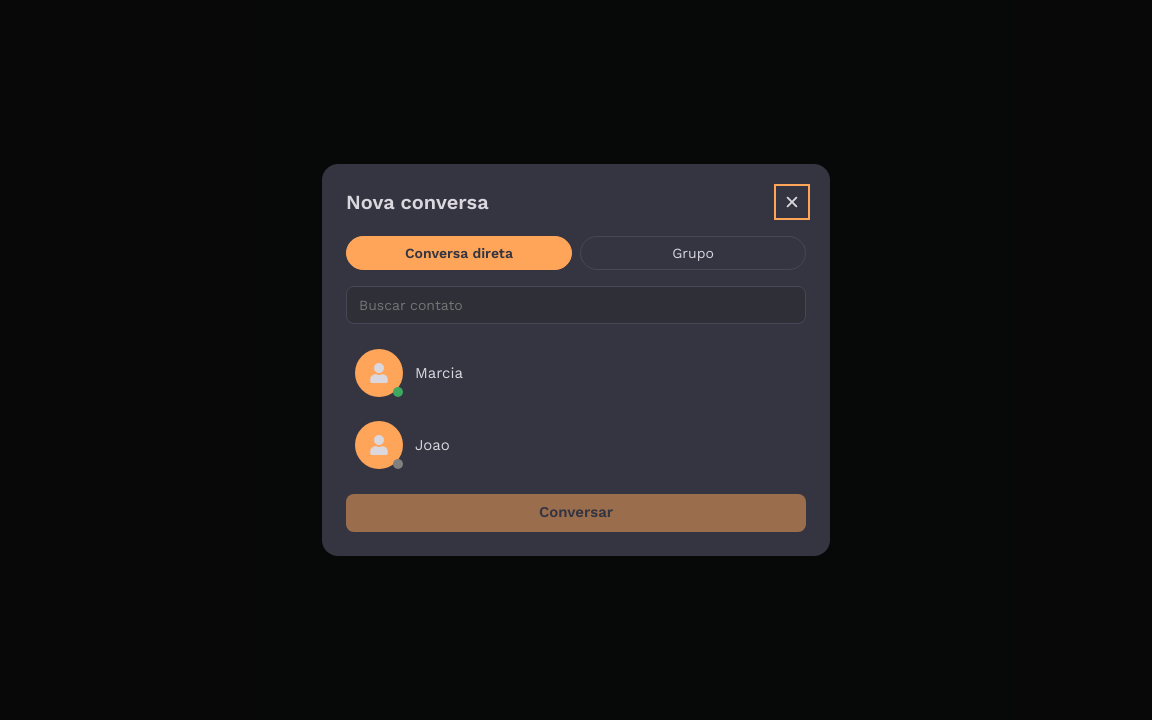
it: NewChatModal · criar grupo › voltar preserva quem ja foi escolhido
Click the tab "Grupo" at (693, 253), box left=580, top=236, right=806, bottom=270
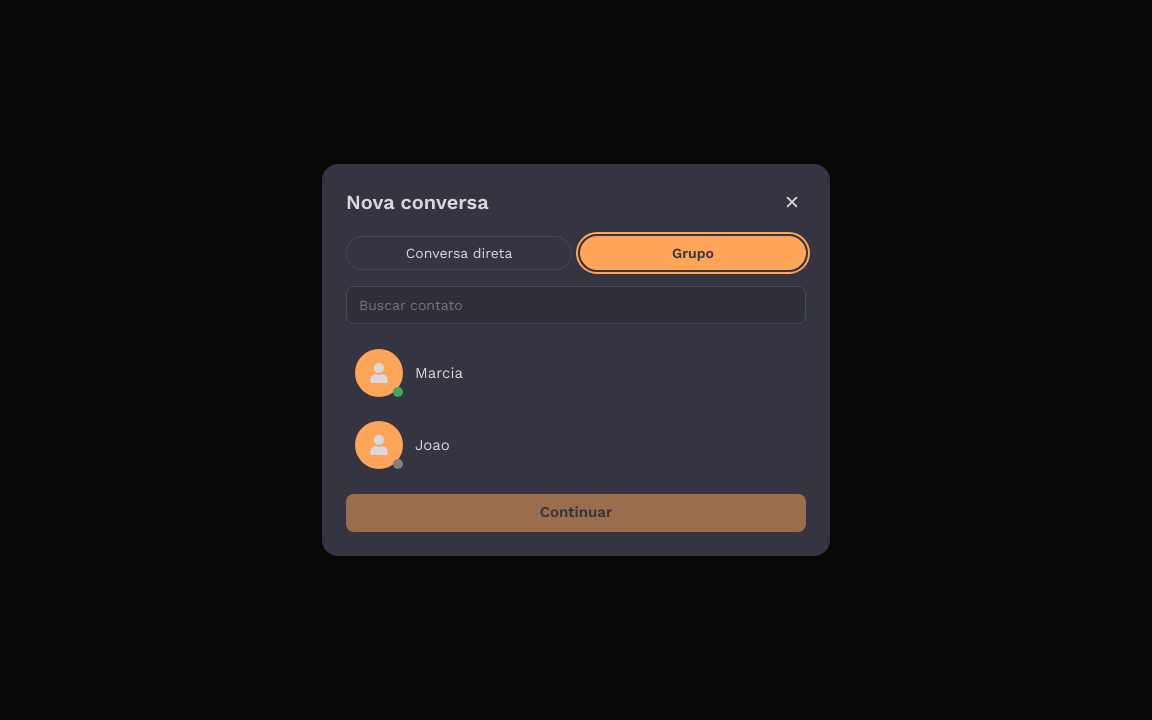
Click the button "Marcia" at (379, 373), box left=346, top=340, right=806, bottom=406
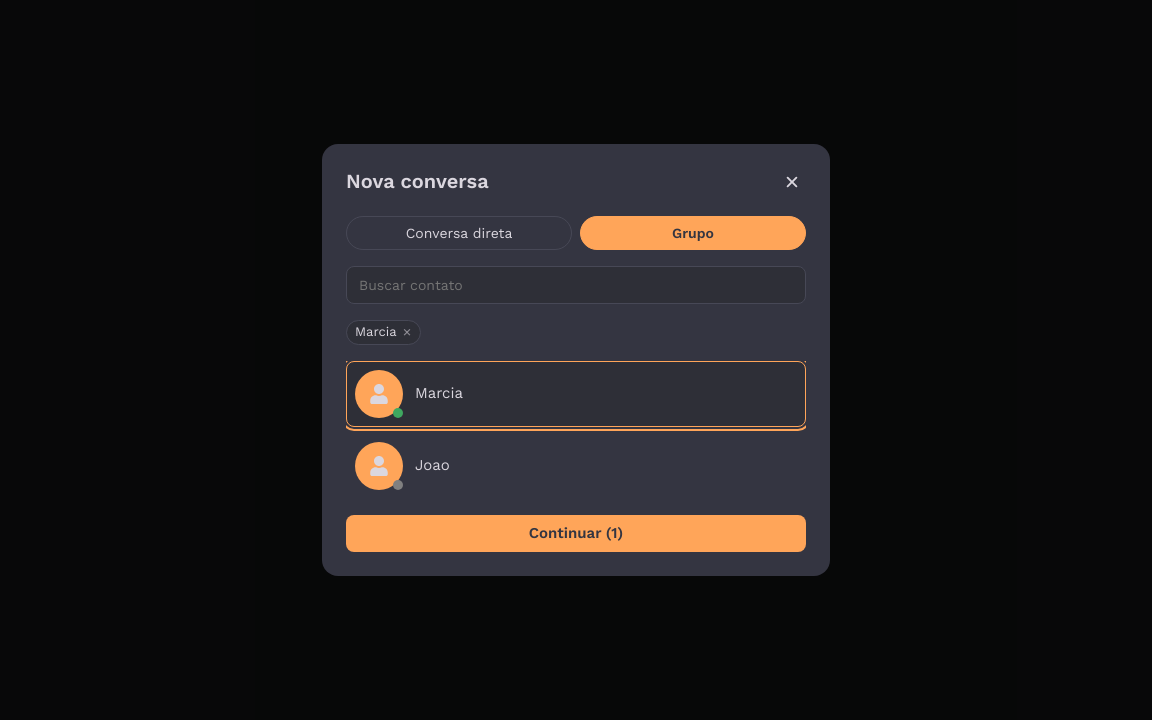
Click the button "Continuar (1)" at (576, 534), box left=346, top=515, right=806, bottom=552
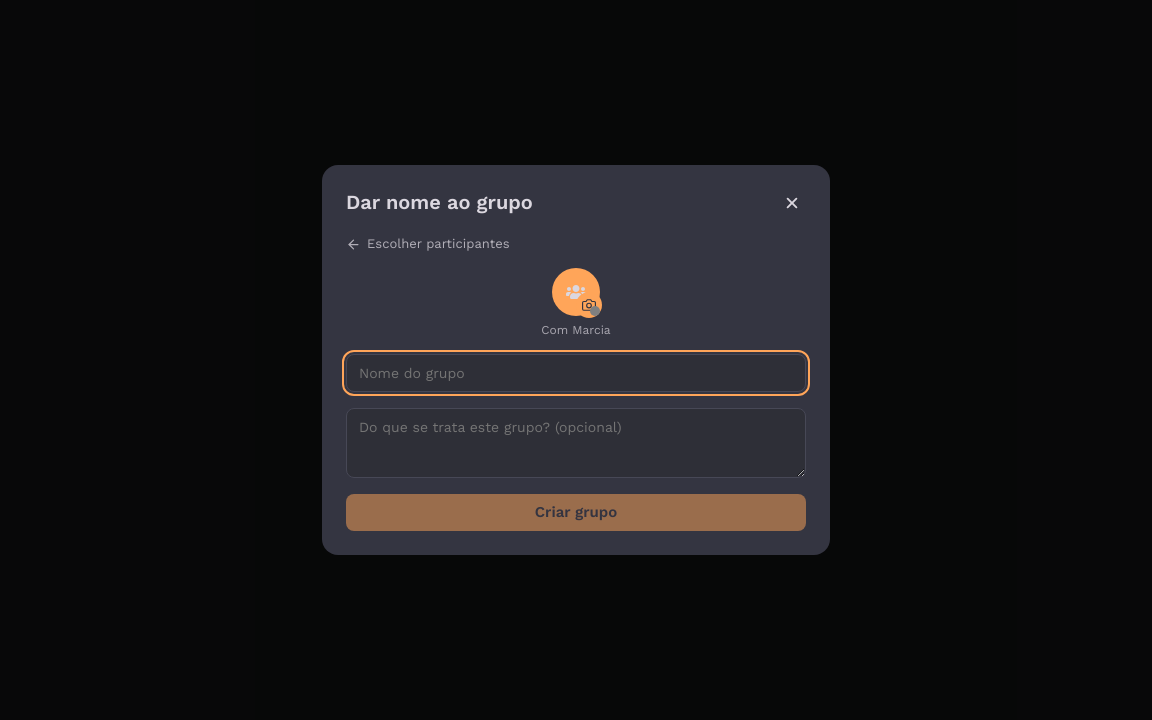
Click the button "Escolher participantes" at (428, 244), box left=346, top=237, right=510, bottom=252
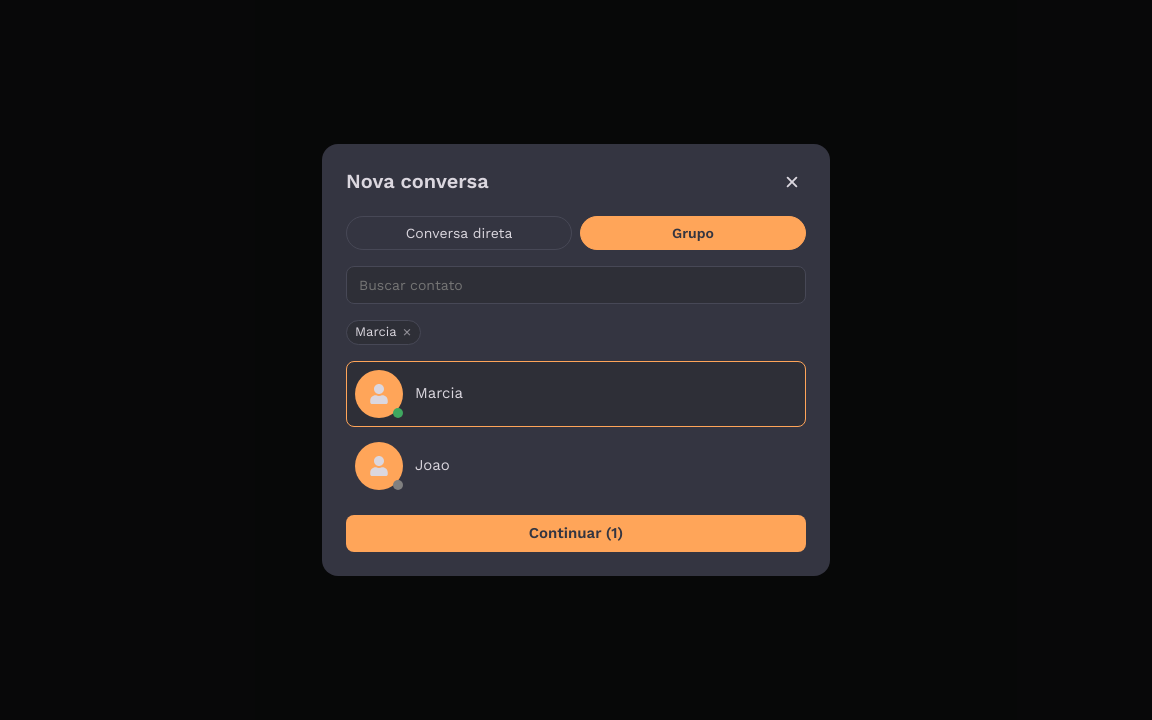
Expected: the button named "Remover Marcia" is shown, left=346, top=320, right=421, bottom=345
Expected: the button "Continuar (1)" is shown, left=346, top=515, right=806, bottom=552
